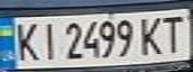2: (60, 19, 84, 61)
4: (81, 17, 103, 60)
9: (115, 16, 139, 58), (97, 17, 118, 59)
I: (36, 19, 60, 61)
K: (9, 19, 42, 63), (136, 14, 169, 56)
T: (154, 12, 190, 54)
